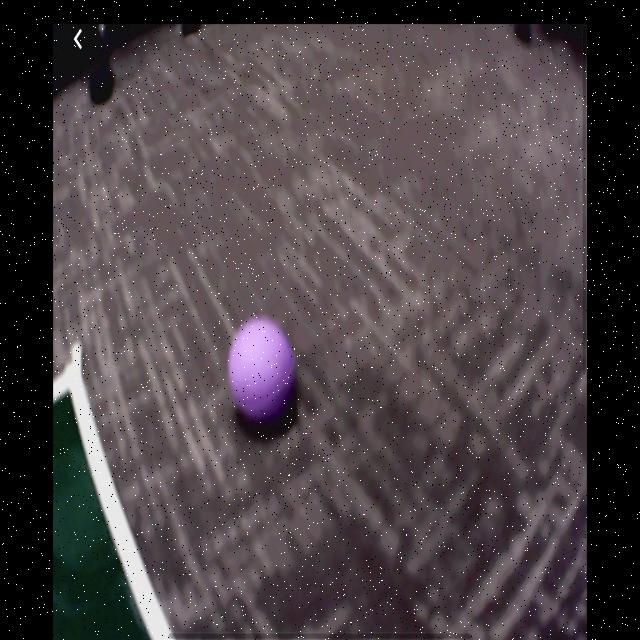ball: (231, 320, 295, 425)
